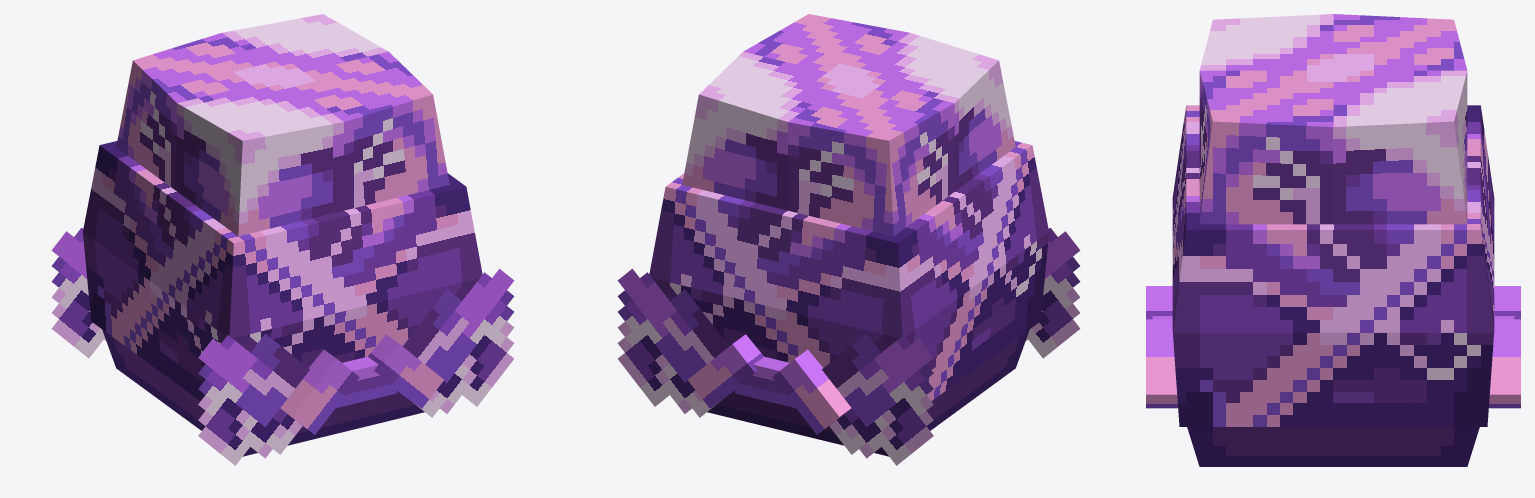
File: scorpid-egg.gltf
3 views of the same model, side by side, from view 1: azimuth 30°, elevation 25°; view 2: azimuth 150°, elevation 25°; view 3: azimuth 270°, elevation 25° (orthographic). The views are drawn at different scales.
Visible parts, largest first — view 1: cube (×9); view 2: cube (×9); view 3: cube (×7).
Boxes of the visible parts, <box> form: cube (×9): <box>51,14,514,465</box>; cube (×9): <box>617,14,1080,465</box>; cube (×7): <box>1146,14,1520,466</box>.
Bounding box in the file's own units: 1.16 × 0.9289 × 0.875.
2 materials, 2 textured.
